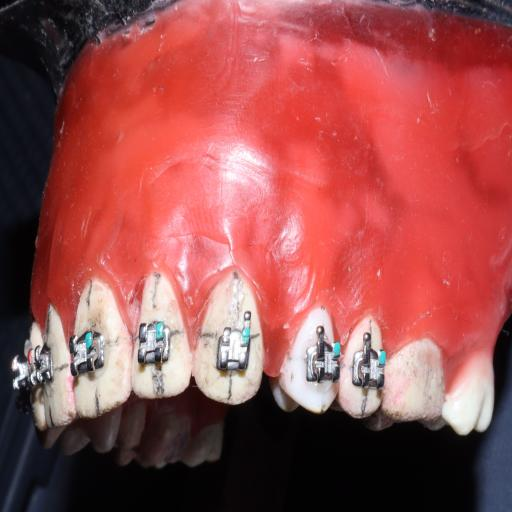incorrect_brace: (132, 272, 190, 402), (215, 320, 252, 380), (136, 317, 173, 365)
